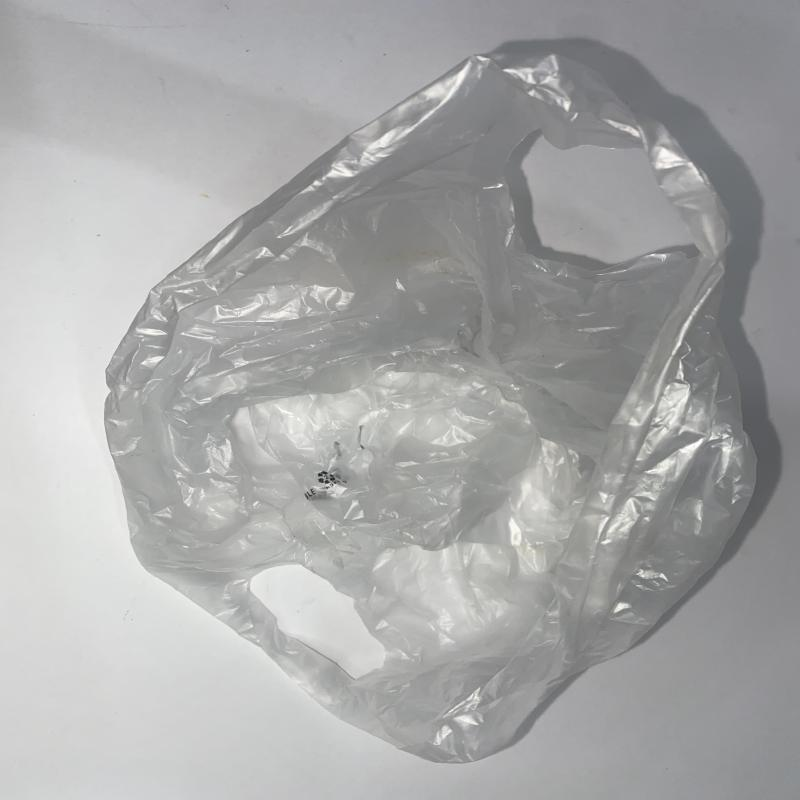plastic bag: (102, 37, 776, 768)
